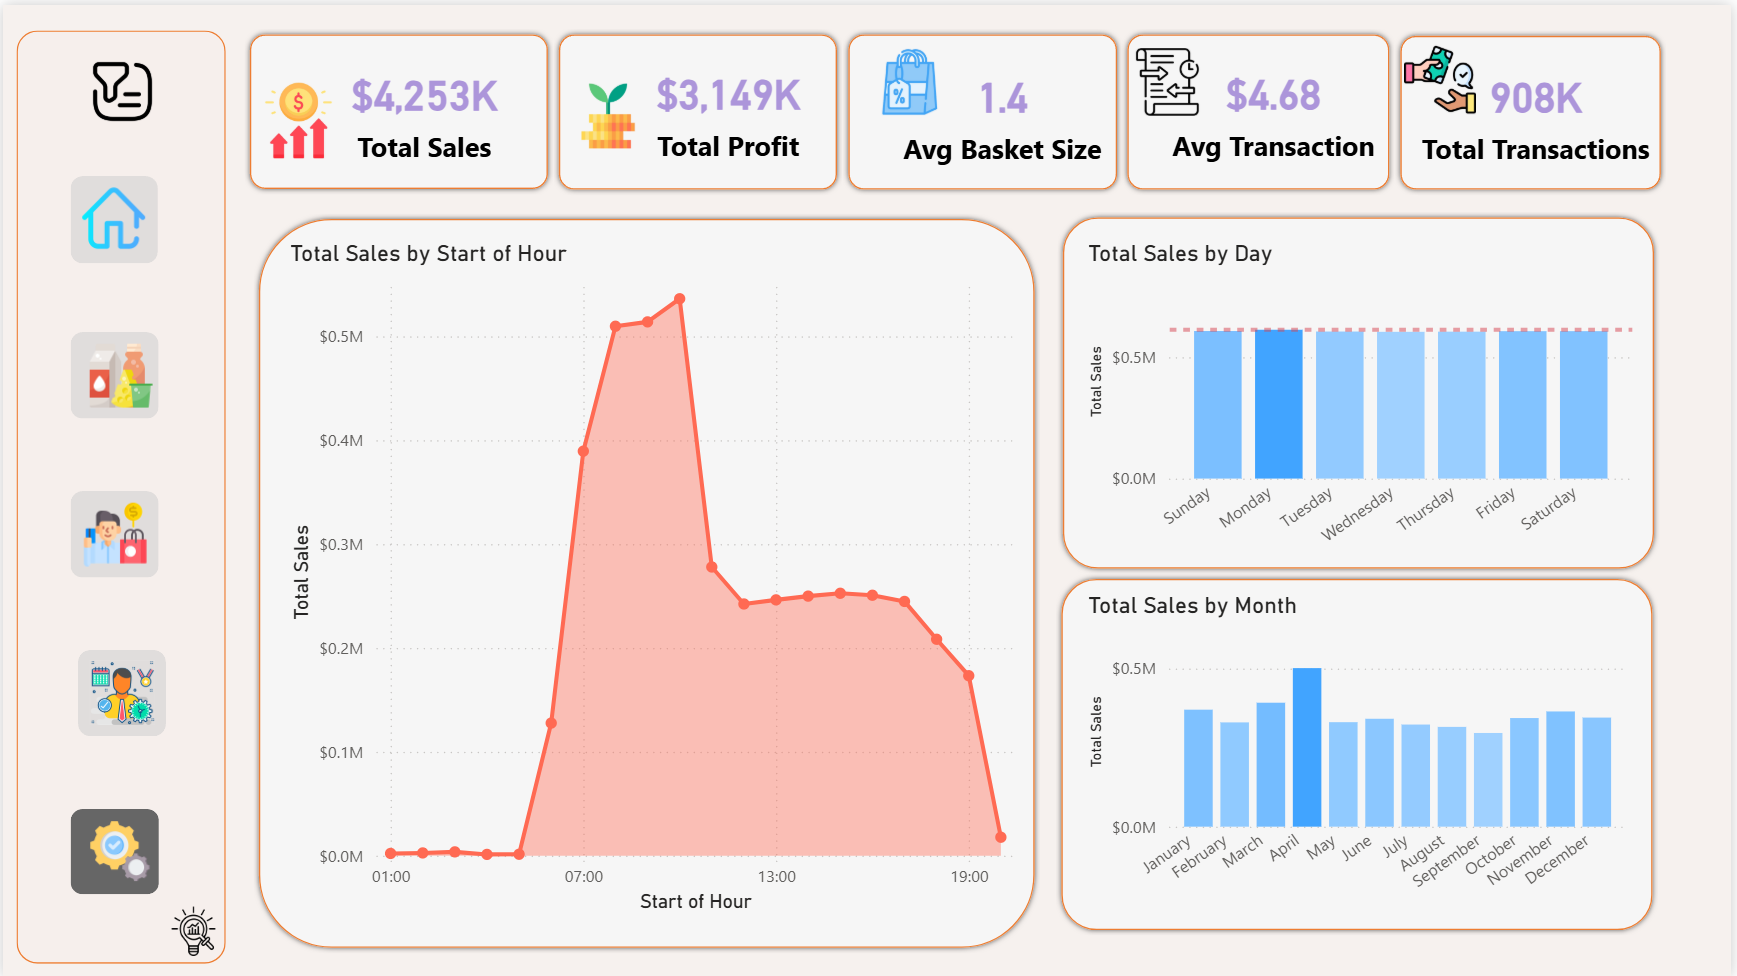

The dashboard page shown, as its layout file describes it:
{"tool":"powerbi","page":{"name":"Operation","canvas":[1280,720],"ordinal":4},"visuals":[{"type":"card","fields":{"Values":["DAX.Total Sales"]},"box":[217.8,17.8,188.9,116.7],"z":0,"group":"g1"},{"type":"shape","title":"Nav BG","box":[10,18.8,155,691.2],"z":0,"group":"g2"},{"type":"group","id":"g1","title":"Page1","box":[178.8,17.5,1053.1,684.1],"z":1000},{"type":"shape","box":[178.8,17.5,228.8,122.5],"z":1000,"group":"g1"},{"type":"image","title":"Filter_Img","box":[58.9,34.2,58.9,59],"z":1000,"group":"g2"},{"type":"shape","box":[408,18,214,123],"z":2000,"group":"g1"},{"type":"group","id":"g2","title":"Nav","box":[10,18.8,155,691.2],"z":2000},{"type":"shape","title":"operation_bg","box":[49.9,595.2,65.6,63.2],"z":2000,"group":"g2"},{"type":"shape","box":[622,18,207,123],"z":3000,"group":"g1"},{"type":"areaChart","fields":{"Y":["DAX.Total Sales"],"Category":["Sales_by_Store.Start of Hour"]},"box":[208.2,173.5,551.1,502.7],"z":3000},{"type":"shape","title":"Emp_bg","box":[55.9,477.6,65.1,63.9],"z":3000,"group":"g2"},{"type":"shape","box":[829,18,202,123],"z":4000,"group":"g1"},{"type":"clusteredColumnChart","title":"Total Sales by Day","fields":{"Category":["Calendar.Day Name"],"Y":["DAX.Total Sales"]},"box":[799.2,173.5,413.3,247.1],"z":4000},{"type":"shape","title":"Customer_bg","box":[49.9,359.9,65.4,64.3],"z":4000,"group":"g2"},{"type":"shape","box":[1031,18.2,200.9,121.8],"z":5000,"group":"g1"},{"type":"shape","title":"Home_bg","box":[49.9,126.8,64.8,64.9],"z":5000,"group":"g2"},{"type":"shape","box":[780.3,420.6,445.9,268.2],"z":5000},{"type":"card","fields":{"Values":["DAX.Total Sales"]},"box":[218,21,188,114],"z":6000,"group":"g1"},{"type":"shape","title":"Product_bg","box":[49.9,242.4,65.4,64.3],"z":6000,"group":"g2"},{"type":"clusteredColumnChart","title":"Total Sales by Month","fields":{"Category":["Calendar.Month_Name"],"Y":["DAX.Total Sales"]},"box":[799.2,434.3,408,241.9],"z":6000},{"type":"card","fields":{"Values":["DAX.Total Profit"]},"box":[459,21,156,113],"z":7000,"group":"g1"},{"type":"image","title":"Operation_img","box":[57.9,598.2,57.6,57.7],"z":7000,"group":"g2"},{"type":"image","box":[117.5,661.2,46.2,50],"z":7000},{"type":"card","fields":{"Values":["DAX.Average Basket Size"]},"box":[660,24,160,111],"z":8000,"group":"g1"},{"type":"image","title":"Customer_img","box":[54.1,363.5,57.3,57.4],"z":8000,"group":"g2"},{"type":"card","fields":{"Values":["DAX.Average Transaction Value"]},"box":[853,21,175,113],"z":9000,"group":"g1"},{"type":"image","title":"Product_img","box":[58.6,245.5,57.3,58.6],"z":9000,"group":"g2"},{"type":"card","fields":{"Values":["DAX.Total Number of Transactions"]},"box":[1037.3,23.6,194.5,110.9],"z":10000,"group":"g1"},{"type":"image","title":"Emp_img","box":[58.6,480.2,58.6,58.6],"z":10000,"group":"g2"},{"type":"image","box":[185,52,66,67],"z":11000,"group":"g1"},{"type":"image","title":"Home_img","box":[53.6,128.7,57.3,57.4],"z":11000,"group":"g2"},{"type":"image","box":[419,52,58,60],"z":12000,"group":"g1"},{"type":"actionButton","title":"Home_Btn","box":[49.9,126.6,64.8,64.9],"z":12000,"group":"g2"},{"type":"image","box":[640,26,63,60],"z":13000,"group":"g1"},{"type":"actionButton","title":"Filter_btn","box":[58.9,33.6,58.8,58.9],"z":13000,"group":"g2"},{"type":"image","box":[1031,22.7,66.4,63.6],"z":14000,"group":"g1"},{"type":"actionButton","title":"Product_Btn","box":[49.9,242.1,64.8,64.9],"z":14000,"group":"g2"},{"type":"image","box":[829.1,26.4,67.3,60],"z":15000,"group":"g1"},{"type":"actionButton","title":"Emp_Btn","box":[55.9,477.6,64.8,64.9],"z":15000,"group":"g2"},{"type":"shape","box":[185.4,153.7,582.6,547.9],"z":16000,"group":"g1"},{"type":"actionButton","title":"Customer_Btn","box":[49.9,359.9,64.8,64.9],"z":16000,"group":"g2"},{"type":"shape","box":[780.6,152.6,445.9,268.2],"z":17000,"group":"g1"},{"type":"actionButton","title":"Operation_Btn","box":[49.9,594.4,64.8,64.9],"z":17000,"group":"g2"}]}

Visuals, with their boxes in screenshot pixels (x1, y1, x2, y2), scaled from the page's 1280x720 canvas onto the 1737x976 screenshot:
card - DAX.Total Sales: select_region(296, 24, 552, 182)
"Nav BG" shape: select_region(14, 25, 224, 962)
"Page1" group: select_region(243, 24, 1672, 951)
shape: select_region(243, 24, 553, 190)
"Filter_Img" image: select_region(80, 46, 160, 126)
shape: select_region(554, 24, 844, 191)
"Nav" group: select_region(14, 25, 224, 962)
"operation_bg" shape: select_region(68, 807, 157, 892)
shape: select_region(844, 24, 1125, 191)
areaChart - DAX.Total Sales x Sales_by_Store.Start of Hour: select_region(283, 235, 1030, 917)
"Emp_bg" shape: select_region(76, 647, 164, 734)
shape: select_region(1125, 24, 1399, 191)
"Total Sales by Day" clusteredColumnChart: select_region(1085, 235, 1645, 570)
"Customer_bg" shape: select_region(68, 488, 156, 575)
shape: select_region(1399, 25, 1672, 190)
"Home_bg" shape: select_region(68, 172, 156, 260)
shape: select_region(1059, 570, 1664, 934)
card - DAX.Total Sales: select_region(296, 28, 551, 183)
"Product_bg" shape: select_region(68, 329, 156, 416)
"Total Sales by Month" clusteredColumnChart: select_region(1085, 589, 1638, 917)
card - DAX.Total Profit: select_region(623, 28, 835, 182)
"Operation_img" image: select_region(79, 811, 157, 889)
image: select_region(159, 896, 222, 964)
card - DAX.Average Basket Size: select_region(896, 33, 1113, 183)
"Customer_img" image: select_region(73, 493, 151, 571)
card - DAX.Average Transaction Value: select_region(1158, 28, 1395, 182)
"Product_img" image: select_region(80, 333, 157, 412)
card - DAX.Total Number of Transactions: select_region(1408, 32, 1672, 182)
"Emp_img" image: select_region(80, 651, 159, 730)
image: select_region(251, 70, 341, 161)
"Home_img" image: select_region(73, 174, 150, 252)
image: select_region(569, 70, 647, 152)
"Home_Btn" actionButton: select_region(68, 172, 156, 260)
image: select_region(868, 35, 954, 117)
"Filter_btn" actionButton: select_region(80, 46, 160, 125)
image: select_region(1399, 31, 1489, 117)
"Product_Btn" actionButton: select_region(68, 328, 156, 416)
image: select_region(1125, 36, 1216, 117)
"Emp_Btn" actionButton: select_region(76, 647, 164, 735)
shape: select_region(252, 208, 1042, 951)
"Customer_Btn" actionButton: select_region(68, 488, 156, 576)
shape: select_region(1059, 207, 1664, 570)
"Operation_Btn" actionButton: select_region(68, 806, 156, 894)
